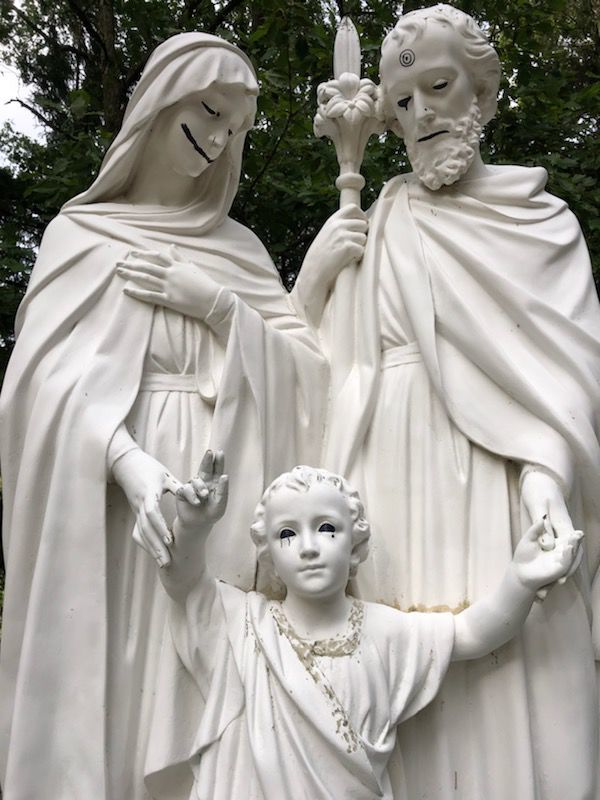person-like: (1, 28, 337, 800), (275, 1, 600, 790), (150, 439, 588, 800)
